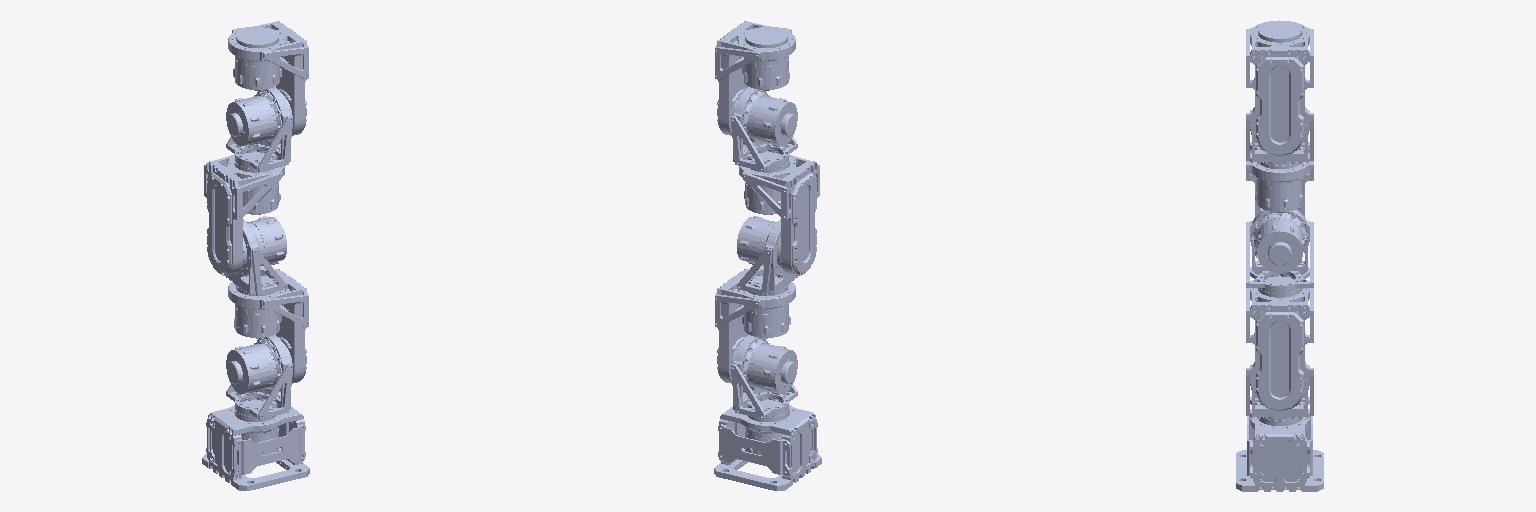
The robot description file, URDF, robot "robot_arm_fixed":
<?xml version="1.0" encoding="utf-8"?>
<!-- This URDF was automatically created by SolidWorks to URDF Exporter! Originally created by [author] ([email redacted]) 
     Commit Version: 1.6.0-4-g7f85cfe  Build Version: 1.6.7995.38578
     For more information, please see http://wiki.ros.org/sw_urdf_exporter -->
<robot
  name="robot_arm_fixed">
  <link
    name="base_link">
    <inertial>
      <origin
        xyz="1.0892E-07 0.056078 7.7687E-09"
        rpy="0 0 0" />
      <mass
        value="0.66309" />
      <inertia
        ixx="0.00073203"
        ixy="1.8952E-15"
        ixz="-5.1066E-10"
        iyy="0.00085803"
        iyz="-1.0535E-15"
        izz="0.00078139" />
    </inertial>
    <visual>
      <origin
        xyz="0 0 0"
        rpy="0 0 0" />
      <geometry>
        <mesh
          filename="package://robot_arm_fixed/meshes/base_link.STL" />
      </geometry>
      <material
        name="">
        <color
          rgba="0.79216 0.81961 0.93333 1" />
      </material>
    </visual>
    <collision>
      <origin
        xyz="0 0 0"
        rpy="0 0 0" />
      <geometry>
        <mesh
          filename="package://robot_arm_fixed/meshes/base_link.STL" />
      </geometry>
    </collision>
  </link>
  <link
    name="link_1">
    <inertial>
      <origin
        xyz="0.0076561 0.06612 -1.5266E-07"
        rpy="0 0 0" />
      <mass
        value="0.44894" />
      <inertia
        ixx="0.00037455"
        ixy="-6.3658E-06"
        ixz="-6.4411E-14"
        iyy="0.00040652"
        iyz="-1.7327E-09"
        izz="0.0004125" />
    </inertial>
    <visual>
      <origin
        xyz="0 0 0"
        rpy="0 0 0" />
      <geometry>
        <mesh
          filename="package://robot_arm_fixed/meshes/link_1.STL" />
      </geometry>
      <material
        name="">
        <color
          rgba="0.79216 0.81961 0.93333 1" />
      </material>
    </visual>
    <collision>
      <origin
        xyz="0 0 0"
        rpy="0 0 0" />
      <geometry>
        <mesh
          filename="package://robot_arm_fixed/meshes/link_1.STL" />
      </geometry>
    </collision>
  </link>
  <joint
    name="joint_1"
    type="revolute">
    <origin
      xyz="0 0 0.10935"
      rpy="1.5708 0 0" />
    <parent
      link="base_link" />
    <child
      link="link_1" />
    <axis
      xyz="0 1 0" />
    <limit
      lower="-3.1415926"
      upper="3.1415926"
      effort="50.0"
      velocity="10.0" />
  </joint>
  <link
    name="link_2">
    <inertial>
      <origin
        xyz="0.021945 0.098953 -7.9847E-08"
        rpy="0 0 0" />
      <mass
        value="0.58247" />
      <inertia
        ixx="0.00091809"
        ixy="-5.3857E-06"
        ixz="2.5866E-09"
        iyy="0.00047586"
        iyz="4.2711E-11"
        izz="0.00083079" />
    </inertial>
    <visual>
      <origin
        xyz="0 0 0"
        rpy="0 0 0" />
      <geometry>
        <mesh
          filename="package://robot_arm_fixed/meshes/link_2.STL" />
      </geometry>
      <material
        name="">
        <color
          rgba="0.79216 0.81961 0.93333 1" />
      </material>
    </visual>
    <collision>
      <origin
        xyz="0 0 0"
        rpy="0 0 0" />
      <geometry>
        <mesh
          filename="package://robot_arm_fixed/meshes/link_2.STL" />
      </geometry>
    </collision>
  </link>
  <joint
    name="joint_2"
    type="revolute">
    <origin
      xyz="0 0.073 0"
      rpy="0 0 0" />
    <parent
      link="link_1" />
    <child
      link="link_2" />
    <axis
      xyz="1 0 0" />
    <limit
      lower="-3.1415926"
      upper="3.1415926"
      effort="50.0"
      velocity="10.0" />
  </joint>
  <link
    name="link_3">
    <inertial>
      <origin
        xyz="-0.0076561 0.071348 1.2211E-07"
        rpy="0 0 0" />
      <mass
        value="0.44894" />
      <inertia
        ixx="0.00037455"
        ixy="6.3658E-06"
        ixz="-6.2902E-14"
        iyy="0.00040652"
        iyz="-2.591E-09"
        izz="0.0004125" />
    </inertial>
    <visual>
      <origin
        xyz="0 0 0"
        rpy="0 0 0" />
      <geometry>
        <mesh
          filename="package://robot_arm_fixed/meshes/link_3.STL" />
      </geometry>
      <material
        name="">
        <color
          rgba="0.79216 0.81961 0.93333 1" />
      </material>
    </visual>
    <collision>
      <origin
        xyz="0 0 0"
        rpy="0 0 0" />
      <geometry>
        <mesh
          filename="package://robot_arm_fixed/meshes/link_3.STL" />
      </geometry>
    </collision>
  </link>
  <joint
    name="joint_3"
    type="revolute">
    <origin
      xyz="0.003 0.14577 0"
      rpy="0 0 0" />
    <parent
      link="link_2" />
    <child
      link="link_3" />
    <axis
      xyz="0 1 0" />
    <limit
      lower="-3.1415926"
      upper="3.1415926"
      effort="50.0"
      velocity="10.0" />
  </joint>
  <link
    name="link_4">
    <inertial>
      <origin
        xyz="-0.0219445411963772 0.0989525269207818 -4.22177951501012E-08"
        rpy="0 0 0" />
      <mass
        value="0.582466766787984" />
      <inertia
        ixx="0.00091809119303052"
        ixy="5.38573280357075E-06"
        ixz="-1.73713831129098E-09"
        iyy="0.000475855569636208"
        iyz="-4.27128128351355E-11"
        izz="0.000830786988506367" />
    </inertial>
    <visual>
      <origin
        xyz="0 0 0"
        rpy="0 0 0" />
      <geometry>
        <mesh
          filename="package://robot_arm_fixed/meshes/link_4.STL" />
      </geometry>
      <material
        name="">
        <color
          rgba="0.792156862745098 0.819607843137255 0.933333333333333 1" />
      </material>
    </visual>
    <collision>
      <origin
        xyz="0 0 0"
        rpy="0 0 0" />
      <geometry>
        <mesh
          filename="package://robot_arm_fixed/meshes/link_4.STL" />
      </geometry>
    </collision>
  </link>
  <joint
    name="joint_4"
    type="revolute">
    <origin
      xyz="0 0.078228 0"
      rpy="0 0 0" />
    <parent
      link="link_3" />
    <child
      link="link_4" />
    <axis
      xyz="1 0 0" />
    <limit
      lower="-3.1415926"
      upper="3.1415926"
      effort="50.0"
      velocity="10.0" />
  </joint>
  <link
    name="link_5">
    <inertial>
      <origin
        xyz="0.0076561 0.06612 -1.5266E-07"
        rpy="0 0 0" />
      <mass
        value="0.44894" />
      <inertia
        ixx="0.00037455"
        ixy="-6.3658E-06"
        ixz="-6.4411E-14"
        iyy="0.00040652"
        iyz="-1.7327E-09"
        izz="0.0004125" />
    </inertial>
    <visual>
      <origin
        xyz="0 0 0"
        rpy="0 0 0" />
      <geometry>
        <mesh
          filename="package://robot_arm_fixed/meshes/link_5.STL" />
      </geometry>
      <material
        name="">
        <color
          rgba="0.79216 0.81961 0.93333 1" />
      </material>
    </visual>
    <collision>
      <origin
        xyz="0 0 0"
        rpy="0 0 0" />
      <geometry>
        <mesh
          filename="package://robot_arm_fixed/meshes/link_5.STL" />
      </geometry>
    </collision>
  </link>
  <joint
    name="joint_5"
    type="revolute">
    <origin
      xyz="-0.003 0.151 0"
      rpy="0 0 0" />
    <parent
      link="link_4" />
    <child
      link="link_5" />
    <axis
      xyz="0 1 0" />
    <limit
      lower="-3.1415926"
      upper="3.1415926"
      effort="50.0"
      velocity="10.0" />
  </joint>
  <link
    name="link_6">
    <inertial>
      <origin
        xyz="0.050478 0.08437 3.9629E-09"
        rpy="0 0 0" />
      <mass
        value="0.23241" />
      <inertia
        ixx="0.0006035"
        ixy="-5.3857E-06"
        ixz="-3.3767E-12"
        iyy="0.00024562"
        iyz="4.2713E-11"
        izz="0.00051619" />
    </inertial>
    <visual>
      <origin
        xyz="0 0 0"
        rpy="0 0 0" />
      <geometry>
        <mesh
          filename="package://robot_arm_fixed/meshes/link_6.STL" />
      </geometry>
      <material
        name="">
        <color
          rgba="0.79216 0.81961 0.93333 1" />
      </material>
    </visual>
    <collision>
      <origin
        xyz="0 0 0"
        rpy="0 0 0" />
      <geometry>
        <mesh
          filename="package://robot_arm_fixed/meshes/link_6.STL" />
      </geometry>
    </collision>
  </link>
  <joint
    name="joint_6"
    type="revolute">
    <origin
      xyz="0 0.073 0"
      rpy="0 0 0" />
    <parent
      link="link_5" />
    <child
      link="link_6" />
    <axis
      xyz="1 0 0" />
    <limit
      lower="-3.1415926"
      upper="3.1415926"
      effort="50.0"
      velocity="10.0" />
  </joint>
  <link
    name="link_hand">
    <inertial>
      <origin
        xyz="0.0030002 0.10863 6.7617E-08"
        rpy="0 0 0" />
      <mass
        value="0.35005" />
      <inertia
        ixx="0.0003146"
        ixy="2.1023E-15"
        ixz="-1.7338E-09"
        iyy="0.00023023"
        iyz="-5.1671E-16"
        izz="0.0003146" />
    </inertial>
    <visual>
      <origin
        xyz="0 0 0"
        rpy="0 0 0" />
      <geometry>
        <mesh
          filename="package://robot_arm_fixed/meshes/link_hand.STL" />
      </geometry>
      <material
        name="">
        <color
          rgba="0.79216 0.81961 0.93333 1" />
      </material>
    </visual>
    <collision>
      <origin
        xyz="0 0 0"
        rpy="0 0 0" />
      <geometry>
        <mesh
          filename="package://robot_arm_fixed/meshes/link_hand.STL" />
      </geometry>
    </collision>
  </link>
  <joint
    name="joint_7"
    type="revolute">
    <origin
      xyz="0 0 0"
      rpy="0 0 0" />
    <parent
      link="link_6" />
    <child
      link="link_hand" />
    <axis
      xyz="0 1 0" />
    <limit
      lower="-3.1415926"
      upper="3.1415926"
      effort="50.0"
      velocity="10.0" />
  </joint>
</robot>

--- Render facts (derived) ---
The picture shows the robot from 3 angles, left to right: view 1: azimuth 30°, elevation 25°; view 2: azimuth 150°, elevation 25°; view 3: azimuth 270°, elevation 25°; orthographic projection.
Model robot_arm_fixed with 8 links and 7 joints (7 revolute), rooted at base_link, posed every joint at zero.
Visible links, largest first — view 1: base_link, link_4, link_2, link_1, link_5, link_6, link_3, link_hand; view 2: base_link, link_4, link_2, link_1, link_5, link_6, link_3, link_hand; view 3: link_2, link_6, base_link, link_3, link_4, link_1, link_5, link_hand.
Boxes of the visible links, box(x1,y1,x2,y2) form: base_link: box(202, 399, 309, 490); link_4: box(204, 151, 284, 275); link_2: box(228, 269, 308, 383); link_1: box(226, 335, 292, 419); link_5: box(226, 87, 292, 171); link_6: box(228, 21, 308, 135); link_3: box(223, 216, 286, 295); link_hand: box(233, 27, 281, 90); base_link: box(714, 399, 821, 490); link_4: box(739, 151, 819, 275); link_2: box(715, 269, 795, 383); link_1: box(731, 335, 797, 419); link_5: box(731, 87, 797, 171); link_6: box(715, 21, 795, 135); link_3: box(737, 216, 800, 295); link_hand: box(742, 27, 789, 90); link_2: box(1246, 276, 1313, 410); link_6: box(1246, 21, 1313, 155); base_link: box(1236, 416, 1323, 491); link_3: box(1246, 210, 1313, 293); link_4: box(1246, 149, 1313, 216); link_1: box(1246, 362, 1313, 420); link_5: box(1246, 107, 1313, 165); link_hand: box(1256, 20, 1303, 46).
Size in the robot's own frame: 0.149 by 0.14 by 0.7813 metres.
Meshes: 8 distinct files referenced, 8 mesh visuals loaded (8 binary STL).